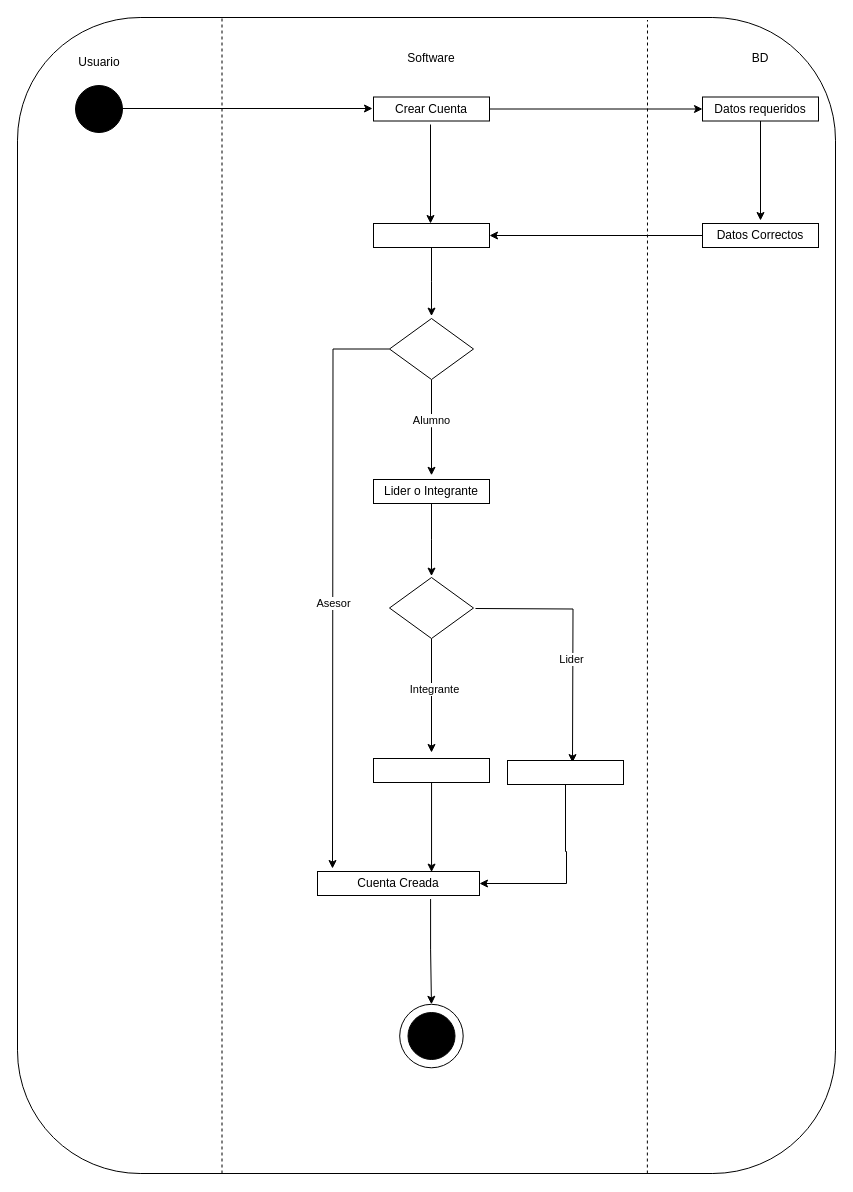
Some shapes in this 853 by 1192 pixel diagram are drawn without their labels. Each missing label, with the box of its shape:
Buscar Proyecto: (372, 758, 490, 782)
Crear Proyecto: (506, 760, 624, 784)
Vaidar Correo: (372, 222, 490, 248)
